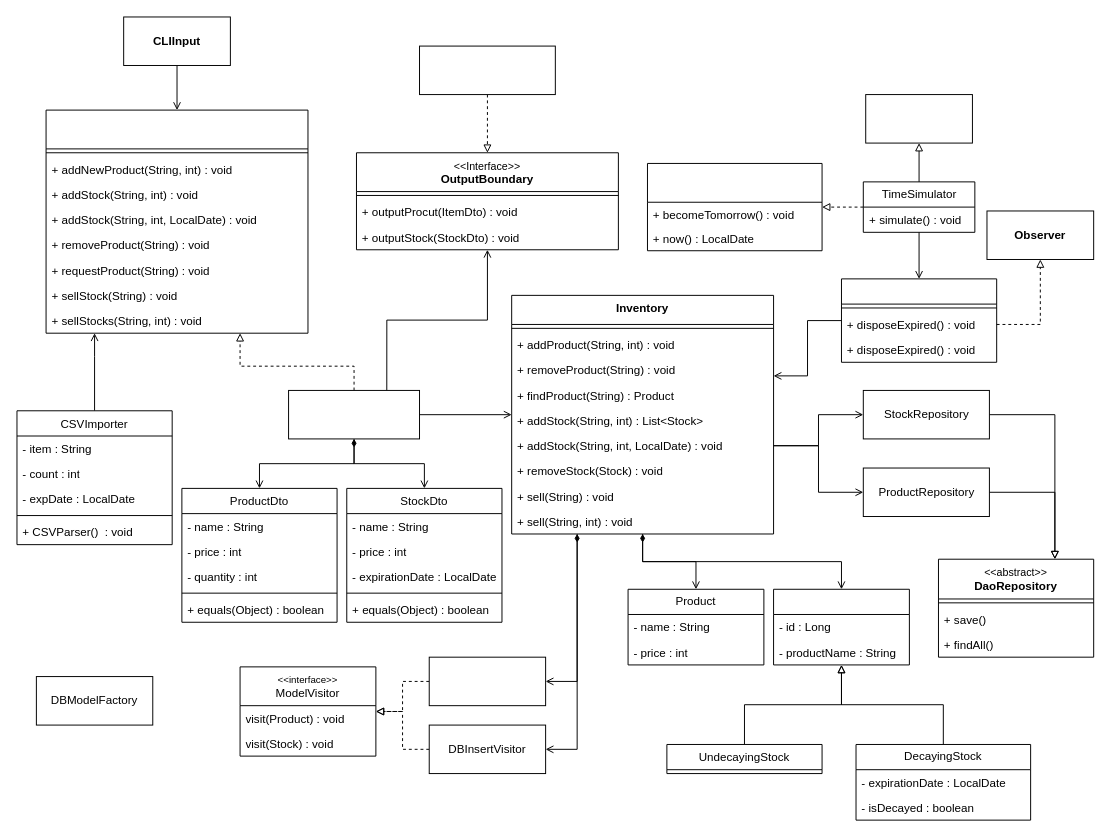
The diagram is 1111 pixels wide and 840 high, and some of its shapes have lost their labels. Here are the shapes that lost their labels. From the top down, the box of each, then its label:
(419, 45, 555, 95): CLIOutputBoundary
(865, 94, 972, 143): Observable
(45, 109, 308, 333): <<Interface>> InputBoundary
(647, 162, 822, 251): <<interface>> AppTime
(841, 278, 997, 362): DecayingChecker
(288, 389, 420, 439): Controller (Shop)
(773, 588, 909, 665): Stock
(428, 656, 546, 706): DBDeleteVisitor
